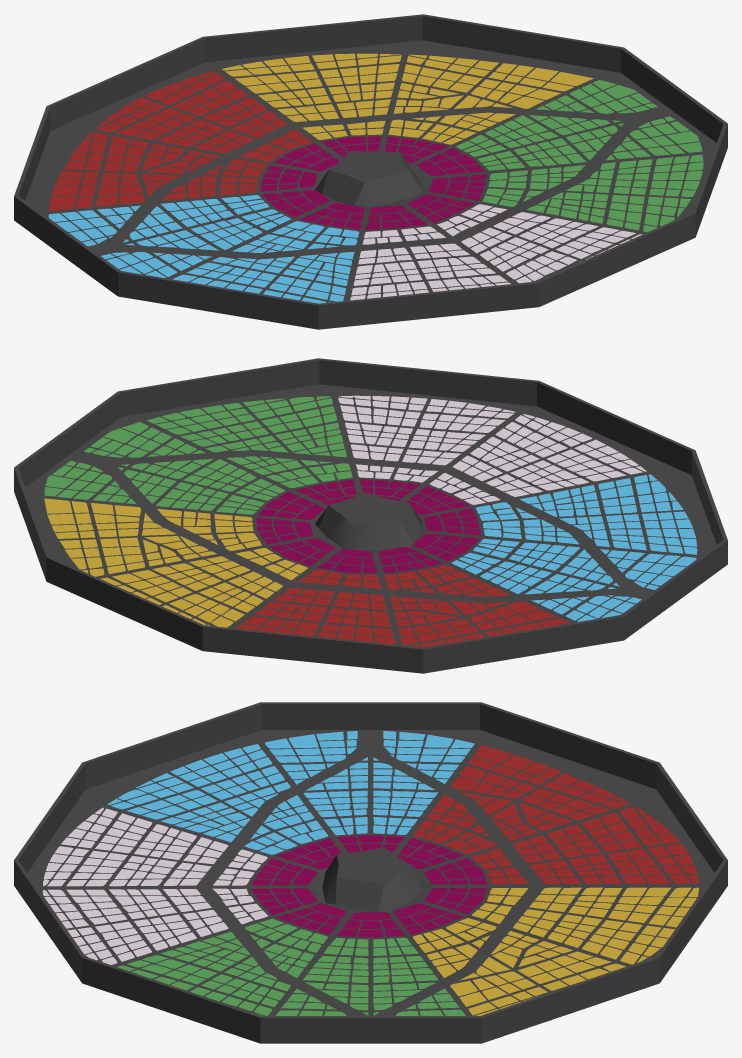
The model's file is mapa por distritos.fbx.
3 views of the same model, one above another, from view 1: azimuth 30°, elevation 25°; view 2: azimuth 150°, elevation 25°; view 3: azimuth 270°, elevation 25° (orthographic). The views are drawn at different scales.
Visible parts, largest first — view 1: Cylinder.004, Curve.002, Curve.004, Curve.006, Curve.003, Curve.001, Curve.005; view 2: Cylinder.004, Curve.002, Curve.003, Curve.001, Curve.004, Curve.006, Curve.005; view 3: Cylinder.004, Curve.003, Curve.006, Curve.001, Curve.004, Curve.002, Curve.005.
Part boxes in pixels (box(x1,y1,x2,y2)): Cylinder.004: box(14, 14, 727, 329); Curve.002: box(456, 80, 703, 232); Curve.004: box(222, 53, 593, 144); Curve.006: box(48, 71, 311, 211); Curve.003: box(48, 195, 359, 303); Curve.001: box(350, 204, 642, 300); Curve.005: box(261, 136, 486, 230); Cylinder.004: box(14, 358, 727, 673); Curve.002: box(44, 396, 352, 514); Curve.003: box(452, 474, 697, 621); Curve.001: box(338, 395, 646, 504); Curve.004: box(44, 498, 307, 627); Curve.006: box(235, 565, 569, 647); Curve.005: box(256, 479, 480, 573); Cylinder.004: box(14, 702, 727, 1043); Curve.003: box(107, 731, 474, 854); Curve.006: box(413, 745, 698, 884); Curve.001: box(42, 807, 267, 964); Curve.004: box(413, 887, 698, 1015); Curve.002: box(117, 918, 465, 1015); Curve.005: box(251, 835, 487, 937).
Bounding box in the file's own units: 516 × 20.85 × 493.
